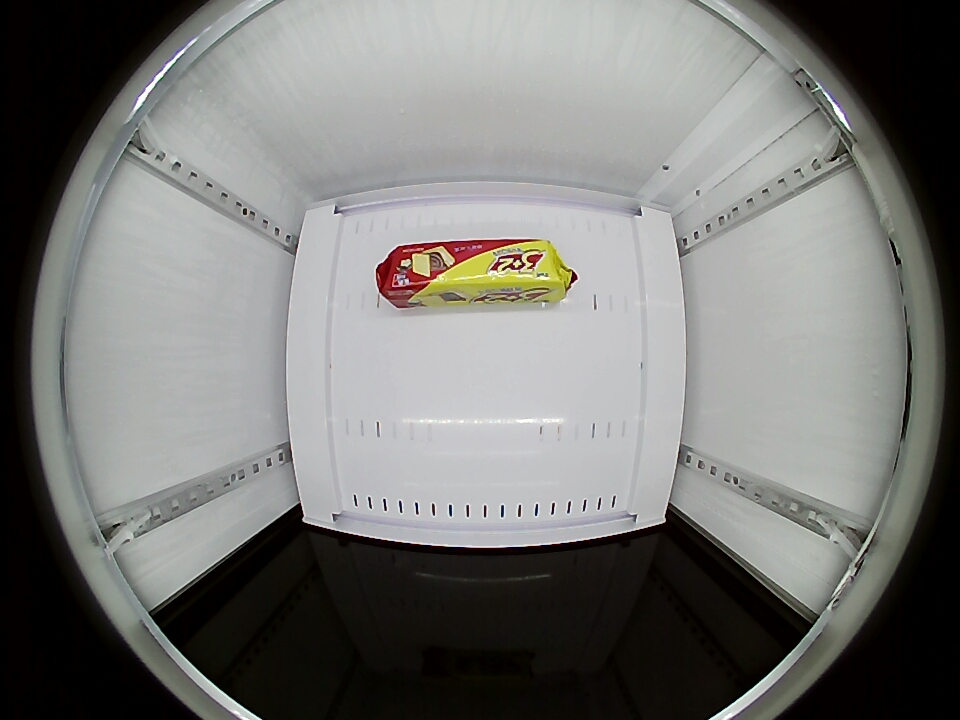3jia2: (377, 238, 568, 304)
